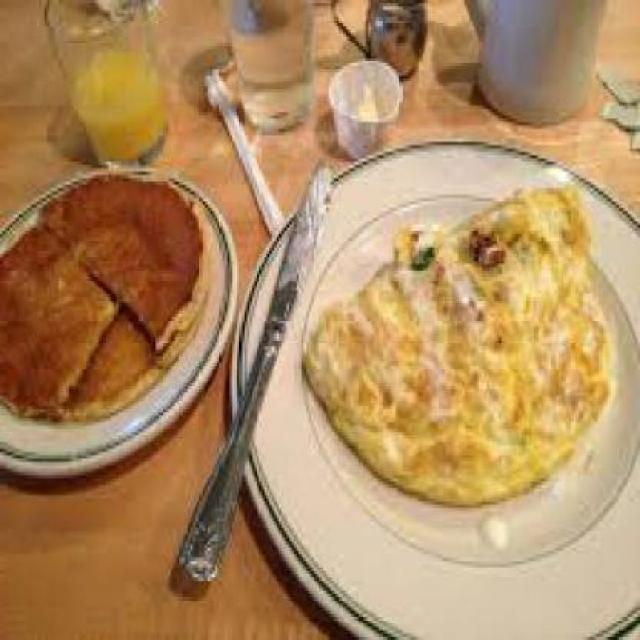omelette: (299, 174, 613, 508)
pancakes: (2, 162, 222, 426)
